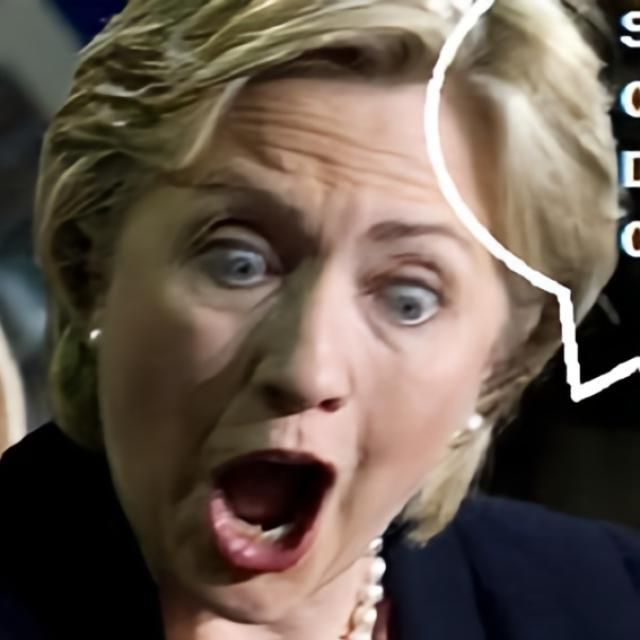Fear: (94, 57, 512, 623)
